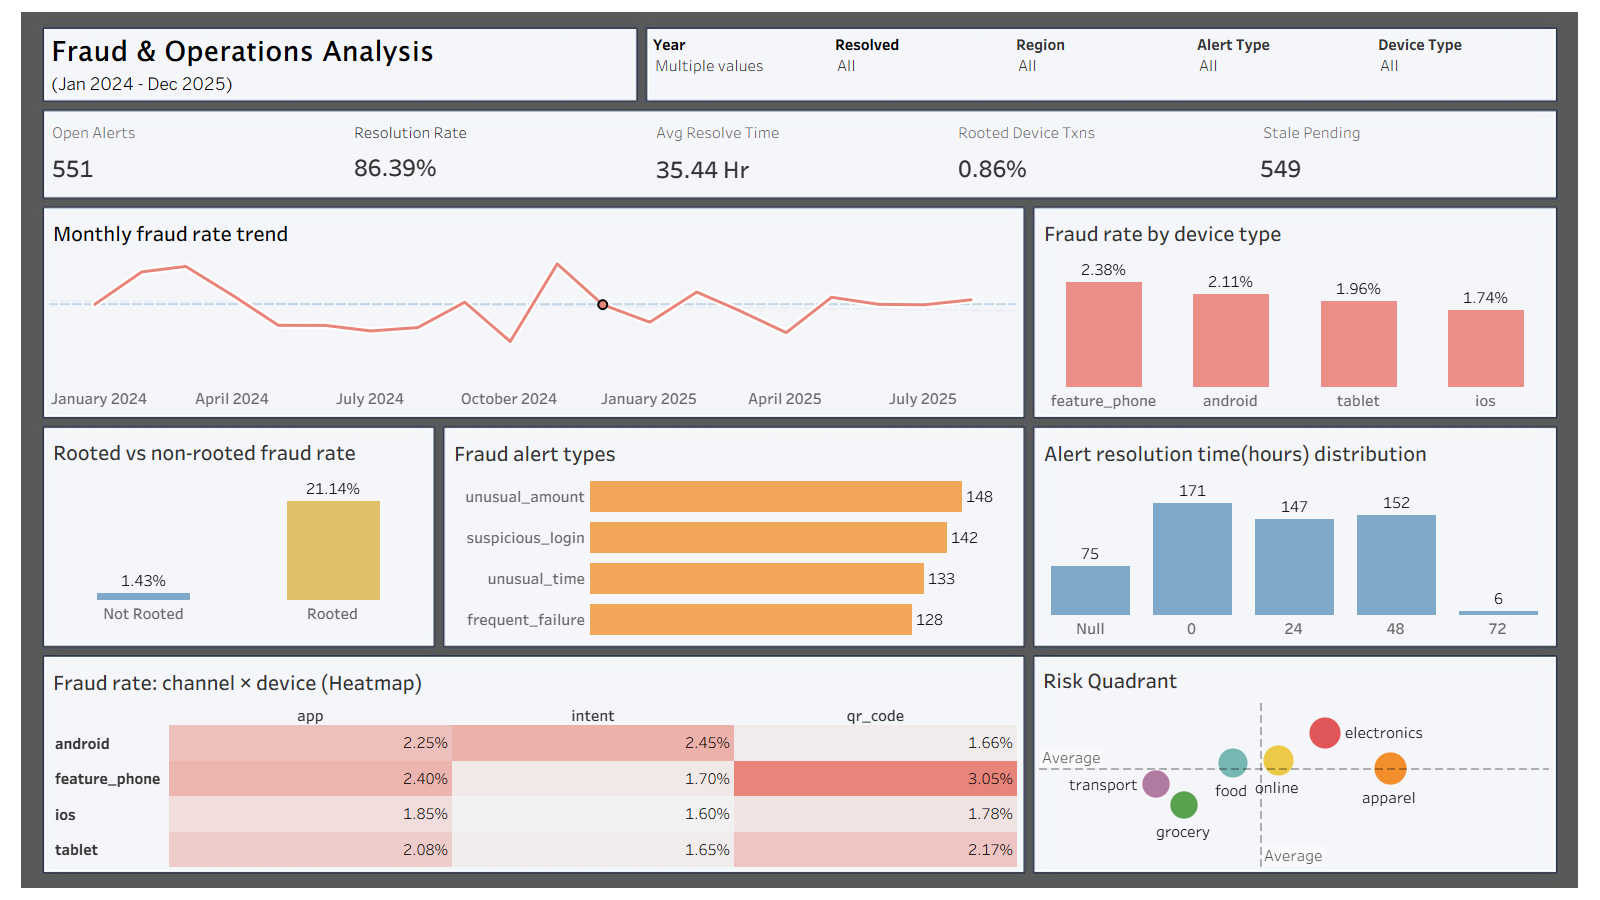

This screenshot's page, from the dashboard's own definition file:
{"tool":"tableau","page":{"name":"Dashboard 2","canvas":[1600,900],"ordinal":1},"visuals":[{"type":"image","param":"D:/PROJECTS/Capston Project Background/UPI dashboard 2.jpg","box":[8,8,1584,884]},{"type":"text","box":[44,28,591,71]},{"type":"filter","title":"Fraud rate by device type","param":"[federated.0rhq27f0kg3e8d12m7mkd1w927np].[yr:timestamp:ok]","box":[649,29,182,70]},{"type":"filter","title":"Fraud rate by device type","param":"[federated.0rhq27f0kg3e8d12m7mkd1w927np].[none:resolved:nk]","box":[831,29,181,70]},{"type":"filter","title":"Fraud rate by device type","param":"[federated.0rhq27f0kg3e8d12m7mkd1w927np].[none:region:nk]","box":[1012,29,181,70]},{"type":"filter","title":"Fraud rate by device type","param":"[federated.0rhq27f0kg3e8d12m7mkd1w927np].[none:alert_type:nk]","box":[1193,29,181,70]},{"type":"filter","title":"Fraud rate by device type","param":"[federated.0rhq27f0kg3e8d12m7mkd1w927np].[none:device_type:nk]","box":[1374,29,181,70]},{"type":"worksheet","title":"Open Alerts","mark":"Automatic","box":[44,112,302,83]},{"type":"worksheet","title":"Resolution Rate","mark":"Automatic","box":[346,112,302,83]},{"type":"worksheet","title":"Avg Resolve Time","mark":"Automatic","box":[648,112,302,83]},{"type":"worksheet","title":"Rooted Device Txns","mark":"Automatic","box":[950,112,302,83]},{"type":"worksheet","title":" Stale Pending","mark":"Automatic","box":[1252,112,302,83]},{"type":"worksheet","title":"Monthly fraud rate trend","mark":"Line","rows":["Calculation_0771046103609345"],"cols":["timestamp"],"box":[45,209,975,206]},{"type":"worksheet","title":"Fraud rate by device type","mark":"Automatic","rows":["Calculation_0771046103609345"],"cols":["device_type"],"box":[1036,209,518,207]},{"type":"worksheet","title":"Rooted vs non-rooted fraud rate","mark":"Automatic","rows":["Calculation_0771046103609345"],"cols":["Calculation_1048123688509440"],"box":[45,428,387,216]},{"type":"worksheet","title":"Fraud alert types","mark":"Automatic","rows":["alert_type"],"cols":["alert_id"],"box":[446,429,575,215]},{"type":"worksheet","title":"Alert resolution time(hours) distribution","mark":"Bar","rows":["alert_id"],"cols":["Resolution Hours (bin)"],"box":[1036,429,517,215]},{"type":"worksheet","title":"Risk Quadrant","mark":"Circle","rows":["Calculation_0771046103609345"],"cols":["transaction_id"],"box":[1035,656,519,215]},{"type":"worksheet","title":"Fraud rate: channel × device (Heatmap)","mark":"Square","rows":["device_type"],"cols":["channel"],"box":[45,658,976,213]}]}

Visuals, with their boxes in screenshot pixels (x1, y1, x2, y2), scaled from the page's 1600x900 canvas onto the 1600x900 screenshot:
image: bbox=[8, 8, 1592, 892]
text: bbox=[44, 28, 635, 99]
"Fraud rate by device type" filter: bbox=[649, 29, 831, 99]
"Fraud rate by device type" filter: bbox=[831, 29, 1012, 99]
"Fraud rate by device type" filter: bbox=[1012, 29, 1193, 99]
"Fraud rate by device type" filter: bbox=[1193, 29, 1374, 99]
"Fraud rate by device type" filter: bbox=[1374, 29, 1555, 99]
"Open Alerts" worksheet: bbox=[44, 112, 346, 195]
"Resolution Rate" worksheet: bbox=[346, 112, 648, 195]
"Avg Resolve Time" worksheet: bbox=[648, 112, 950, 195]
"Rooted Device Txns" worksheet: bbox=[950, 112, 1252, 195]
" Stale Pending" worksheet: bbox=[1252, 112, 1554, 195]
"Monthly fraud rate trend" worksheet (Line marks): bbox=[45, 209, 1020, 415]
"Fraud rate by device type" worksheet: bbox=[1036, 209, 1554, 416]
"Rooted vs non-rooted fraud rate" worksheet: bbox=[45, 428, 432, 644]
"Fraud alert types" worksheet: bbox=[446, 429, 1021, 644]
"Alert resolution time(hours) distribution" worksheet (Bar marks): bbox=[1036, 429, 1553, 644]
"Risk Quadrant" worksheet (Circle marks): bbox=[1035, 656, 1554, 871]
"Fraud rate: channel × device (Heatmap)" worksheet (Square marks): bbox=[45, 658, 1021, 871]
